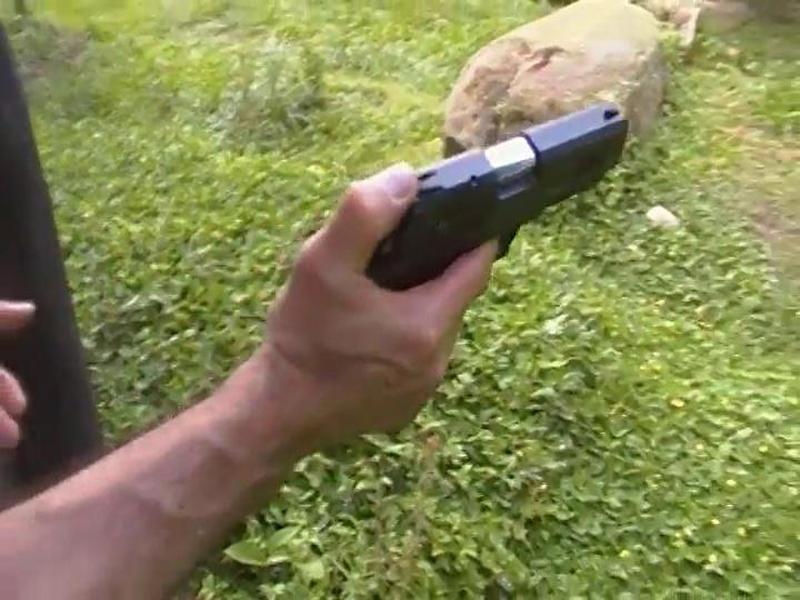Pistola: (361, 91, 615, 302)
